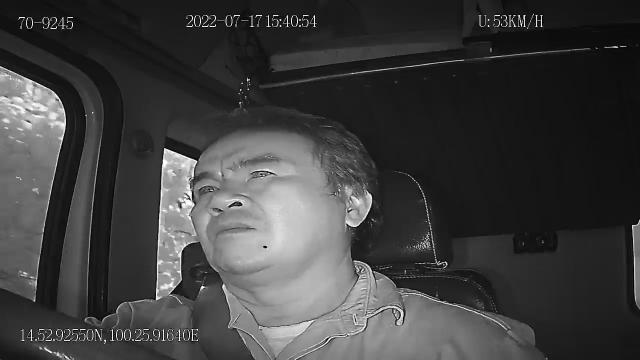SafeDriving: (242, 159, 286, 187), (190, 174, 228, 200)
Seatbelt: (190, 278, 258, 360)
